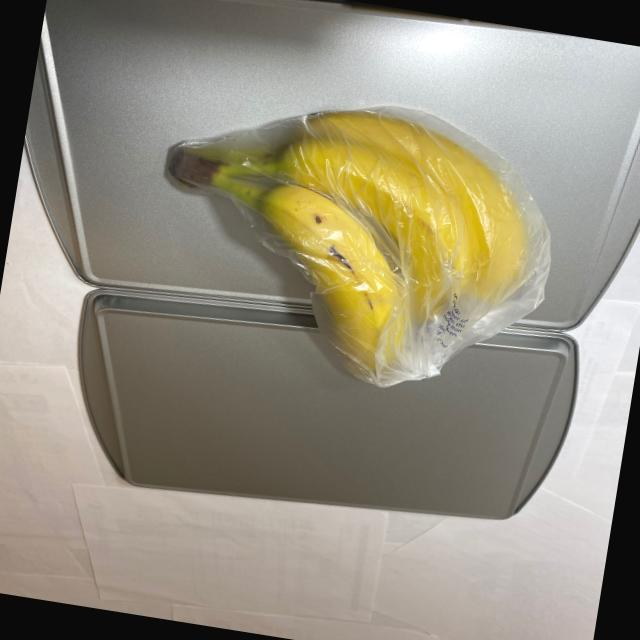banana: (134, 70, 566, 418)
